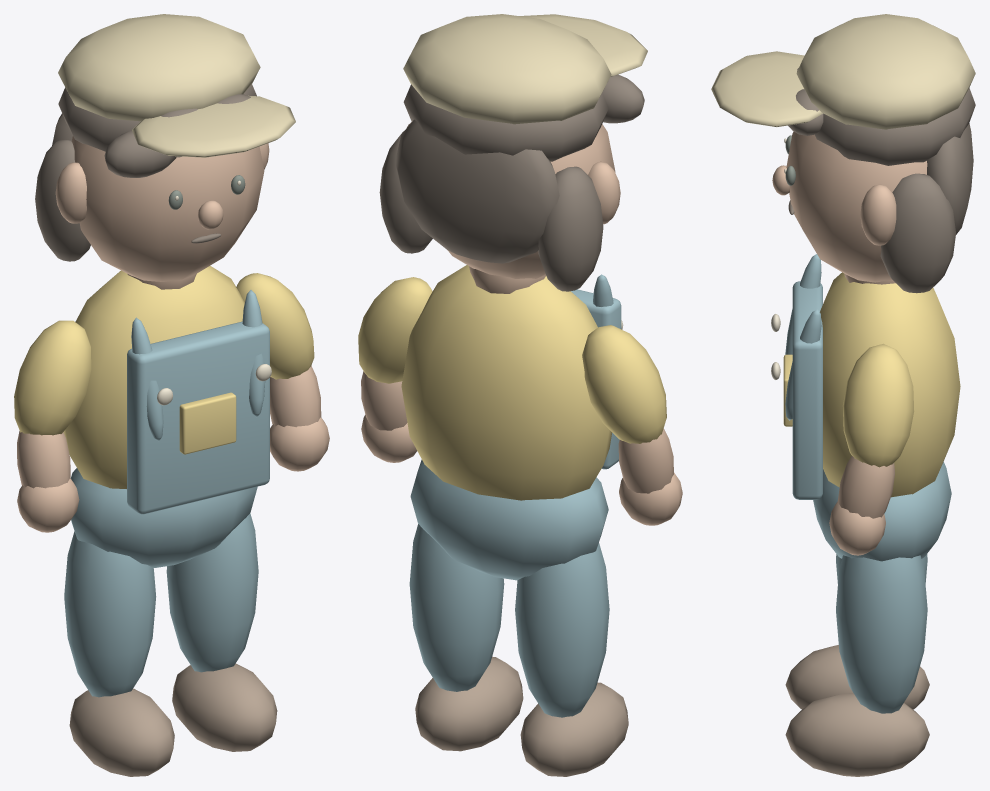
The model's file is ani-idle.glb.
3 renders of one model, left to right at view 1: azimuth 30°, elevation 25°; view 2: azimuth 150°, elevation 25°; view 3: azimuth 270°, elevation 25°, orthographic. The views are drawn at different scales.
Visible parts, largest first — view 1: Overall bib.003, Head.003, Cap crown, Padded shirt.003, Trouser leg.006, Trouser leg.007, Soft trouser seat.003, Rounded boot.007, Rounded boot.006, Shirt sleeve.006, Cap bill, Shirt sleeve.007 (+12 smaller); view 2: Padded shirt.003, Cap crown, Hair back.003, Soft trouser seat.003, Trouser leg.006, Trouser leg.007, Shirt sleeve.006, Hair crown.003, Rounded boot.007, Rounded boot.006, Rounded bob, Shirt sleeve.007 (+11 smaller); view 3: Padded shirt.003, Cap crown, Trouser leg.007, Head.003, Rounded boot.007, Shirt sleeve.007, Rounded bob.001, Overall bib.003, Cap bill, Soft trouser seat.003, Hair crown.003, Rounded boot.006 (+7 smaller).
Boxes of the visible parts, x1,y1,x2,y2 form: Overall bib.003: (127, 321, 269, 514); Head.003: (71, 136, 264, 281); Cap crown: (58, 14, 260, 121); Padded shirt.003: (63, 266, 244, 488); Trouser leg.006: (64, 531, 156, 697); Trouser leg.007: (166, 513, 258, 672); Soft trouser seat.003: (71, 468, 257, 567); Rounded boot.007: (172, 663, 277, 751); Rounded boot.006: (69, 688, 174, 776); Shirt sleeve.006: (14, 320, 91, 435); Cap bill: (132, 95, 295, 157); Shirt sleeve.007: (236, 273, 314, 379); Padded shirt.003: (401, 265, 612, 500); Cap crown: (403, 14, 611, 124); Hair back.003: (395, 119, 559, 263); Soft trouser seat.003: (410, 459, 608, 580); Trouser leg.006: (515, 543, 609, 717); Trouser leg.007: (409, 524, 504, 691); Shirt sleeve.006: (582, 325, 666, 443); Hair crown.003: (403, 84, 608, 161); Rounded boot.007: (415, 656, 523, 751); Rounded boot.006: (520, 682, 628, 776); Rounded bob: (538, 166, 603, 291); Shirt sleeve.007: (358, 277, 432, 383); Padded shirt.003: (820, 272, 960, 497); Cap crown: (796, 14, 975, 129); Trouser leg.007: (836, 555, 927, 713); Head.003: (786, 131, 927, 282); Rounded boot.007: (785, 693, 929, 776); Shirt sleeve.007: (843, 343, 914, 467); Rounded bob.001: (880, 173, 955, 293); Overall bib.003: (792, 281, 822, 499); Cap bill: (711, 51, 822, 127); Soft trouser seat.003: (813, 461, 951, 561); Hair crown.003: (815, 88, 975, 165); Rounded boot.006: (785, 645, 929, 709).
Bounding box in the file's own units: 0.7093 × 1.58 × 0.5324.
